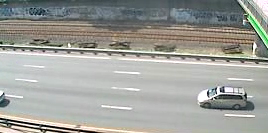car: (195, 82, 248, 112)
